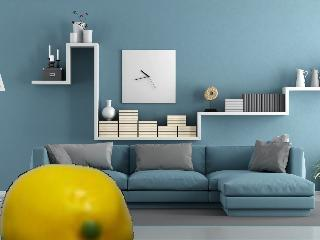lemon: (0, 163, 133, 239)
